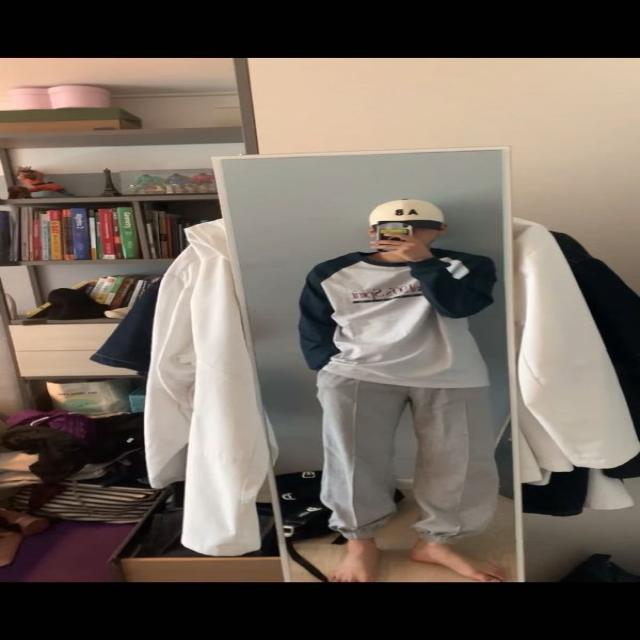longsleeve: (299, 243, 498, 383)
trainingpants: (321, 358, 492, 538)
